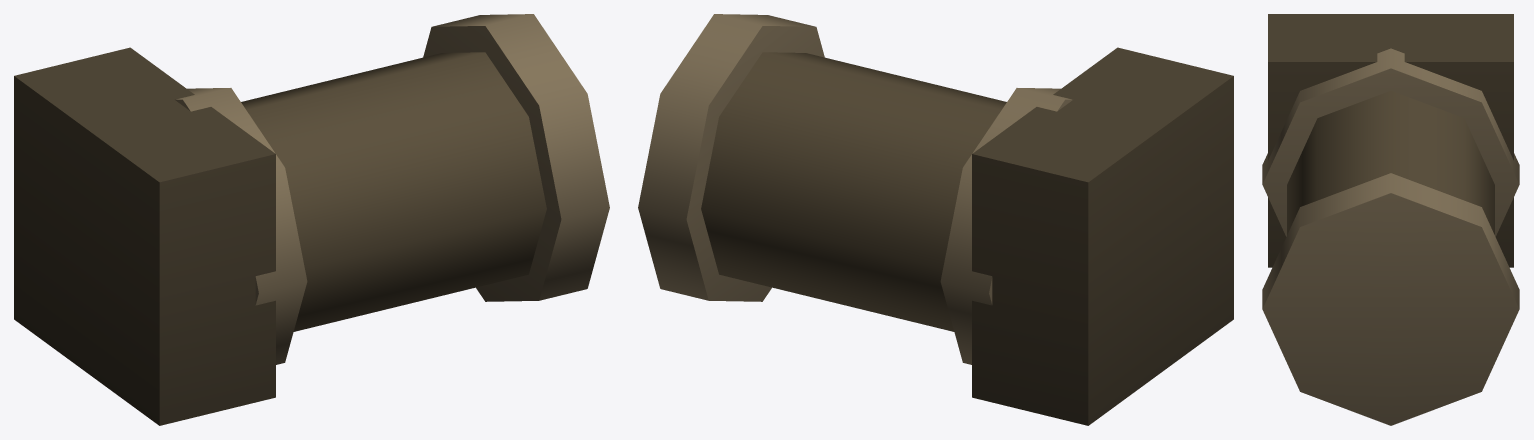
File: pipe-to-ground.glb
3 views of the same model, side by side, from view 1: azimuth 30°, elevation 25°; view 2: azimuth 150°, elevation 25°; view 3: azimuth 270°, elevation 25° (orthographic). The views are drawn at different scales.
Visible parts, largest first — view 1: pipe-to-ground; view 2: pipe-to-ground; view 3: pipe-to-ground.
Boxes of the visible parts, left/top/right/bottom form: pipe-to-ground: left=14, top=14, right=609, bottom=425; pipe-to-ground: left=638, top=14, right=1233, bottom=425; pipe-to-ground: left=1262, top=14, right=1519, bottom=425.
Size of the model in its own units: 0.2305 by 0.136 by 0.136.
